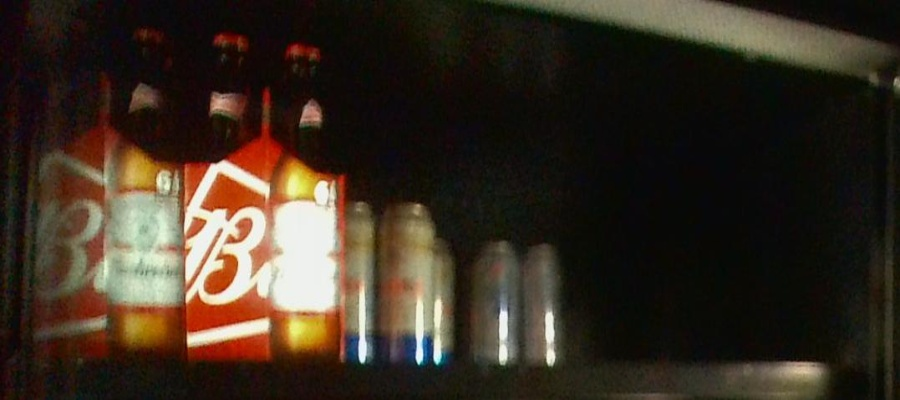bottle: (188, 25, 347, 370), (29, 17, 185, 364), (345, 196, 430, 371), (468, 235, 561, 370), (436, 229, 460, 370)
